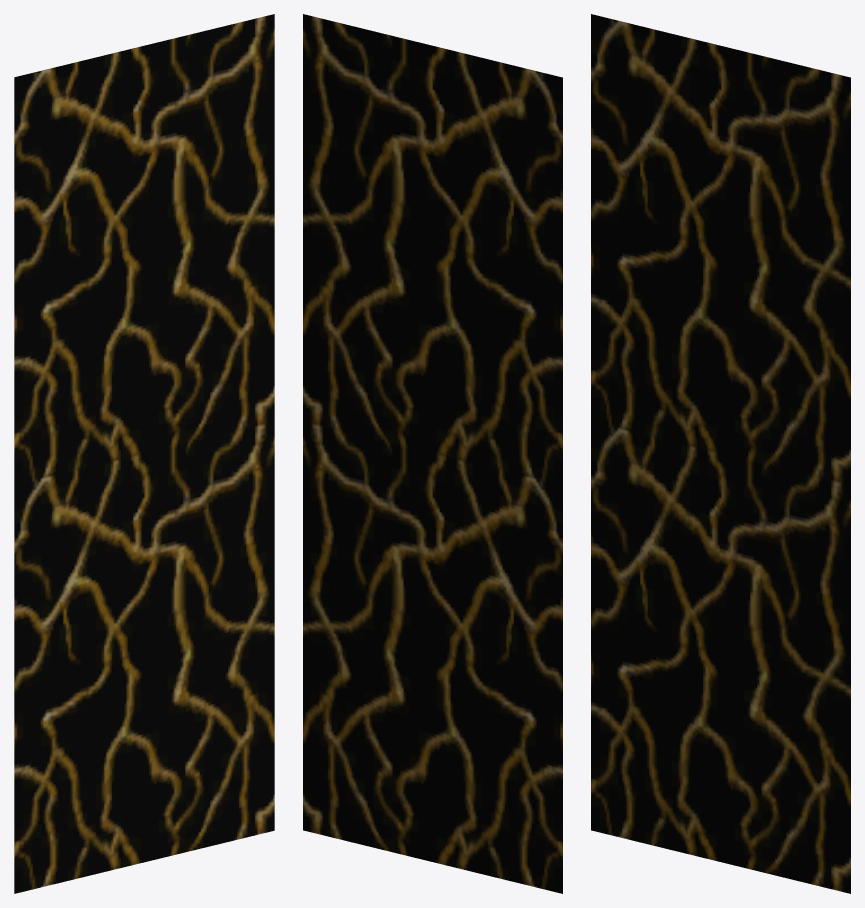
The model's file is OVERHILL_A_01_LINE25.fbx.
The picture shows the model from 3 angles, left to right: view 1: azimuth 30°, elevation 25°; view 2: azimuth 150°, elevation 25°; view 3: azimuth 330°, elevation 25°; orthographic projection.
Visible parts, largest first — view 1: OVERHILL_A_01_LINE25; view 2: OVERHILL_A_01_LINE25; view 3: OVERHILL_A_01_LINE25.
Part boxes in pixels (x1,y1,x2,y2): OVERHILL_A_01_LINE25: (14,14,274,893); OVERHILL_A_01_LINE25: (303,14,562,893); OVERHILL_A_01_LINE25: (591,14,850,893).
Bounding box in the file's own units: 10697 × 32100 × 14.85.
Materials: 1 (1 with a texture image).
